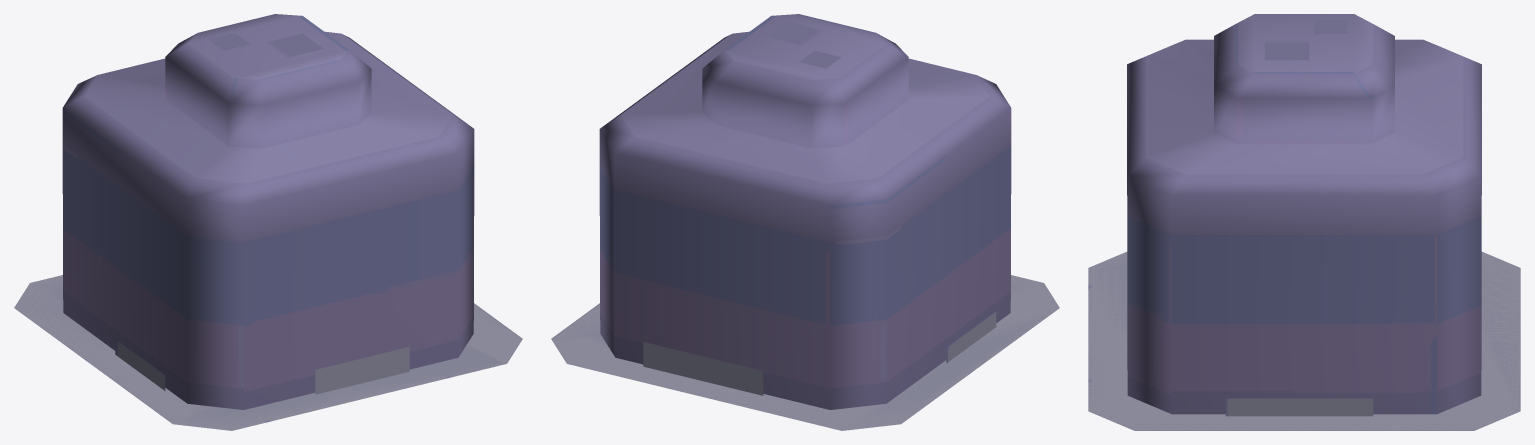
The model's file is B_cave1_rock00.fbx.
3 renders of one model, left to right at view 1: azimuth 30°, elevation 25°; view 2: azimuth 150°, elevation 25°; view 3: azimuth 270°, elevation 25°, orthographic. The views are drawn at different scales.
Visible parts, largest first — view 1: model 1, model; view 2: model 1, model; view 3: model 1, model.
Part boxes in pixels (left/top/right/bottom): model 1: left=14, top=14, right=521, bottom=430; model: left=14, top=275, right=522, bottom=430; model 1: left=551, top=14, right=1058, bottom=430; model: left=551, top=275, right=1059, bottom=430; model 1: left=1088, top=14, right=1520, bottom=430; model: left=1088, top=251, right=1520, bottom=430.
Bounding box in the file's own units: 2.07 × 1.59 × 2.07.
